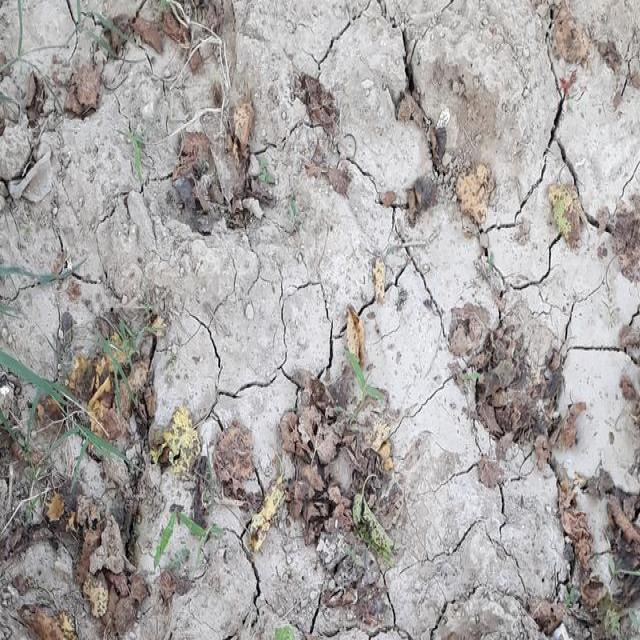weed: (1, 362, 141, 491), (9, 29, 65, 110), (78, 2, 139, 68), (347, 349, 392, 423), (158, 513, 202, 567), (5, 266, 91, 292), (117, 129, 149, 183)
